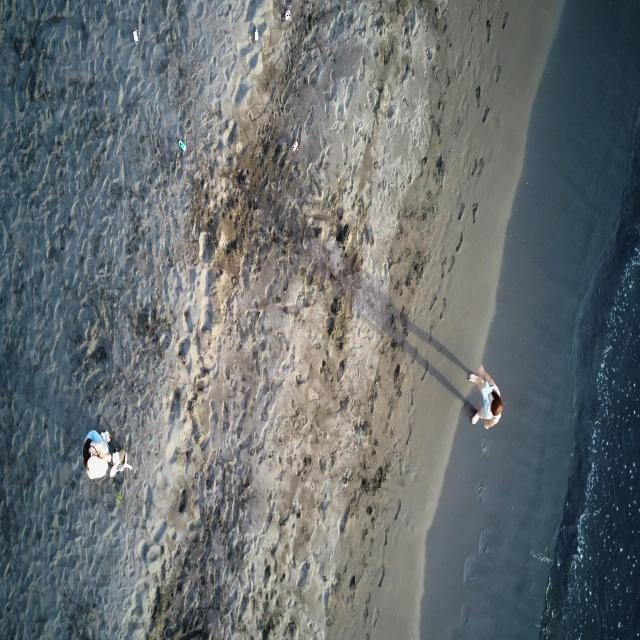tin-and-aluminum-cans: (281, 6, 291, 22), (178, 138, 186, 152), (132, 30, 140, 44), (254, 24, 259, 42), (291, 140, 298, 152)
